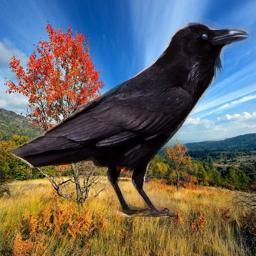Crow: (5, 16, 251, 217)
